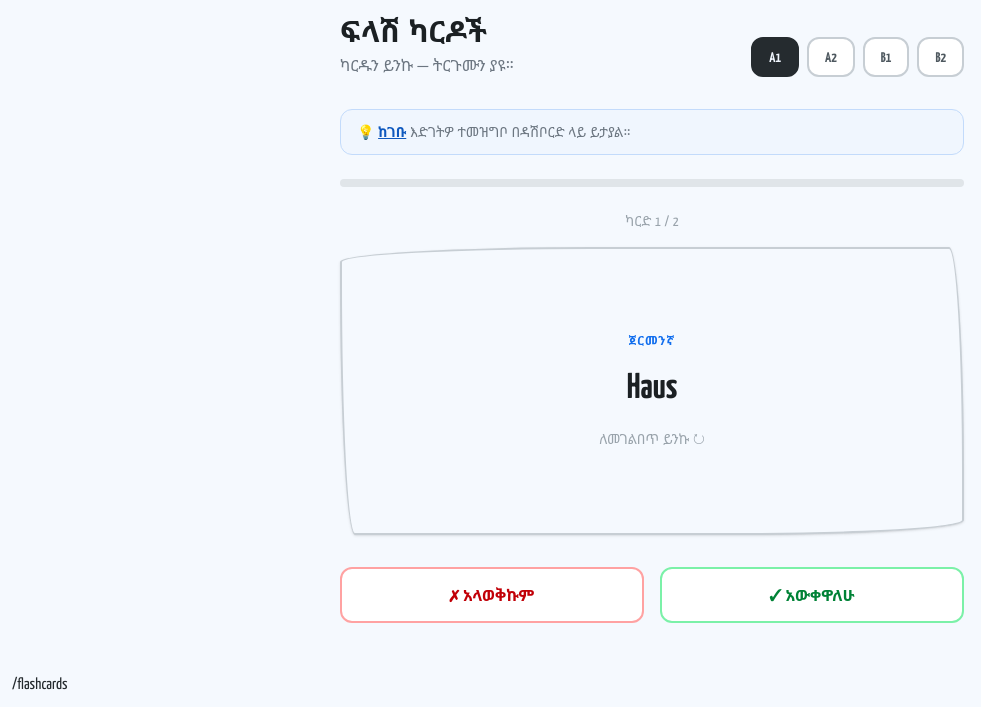
Flashcards › loads the chosen level and says when it has no words
The image size is (981, 707).
Check: the text "ካርድ 1 / 2" is shown, box [625,211,679,230]
Click the button "B2" at (941, 57), box [917,37,964,77]
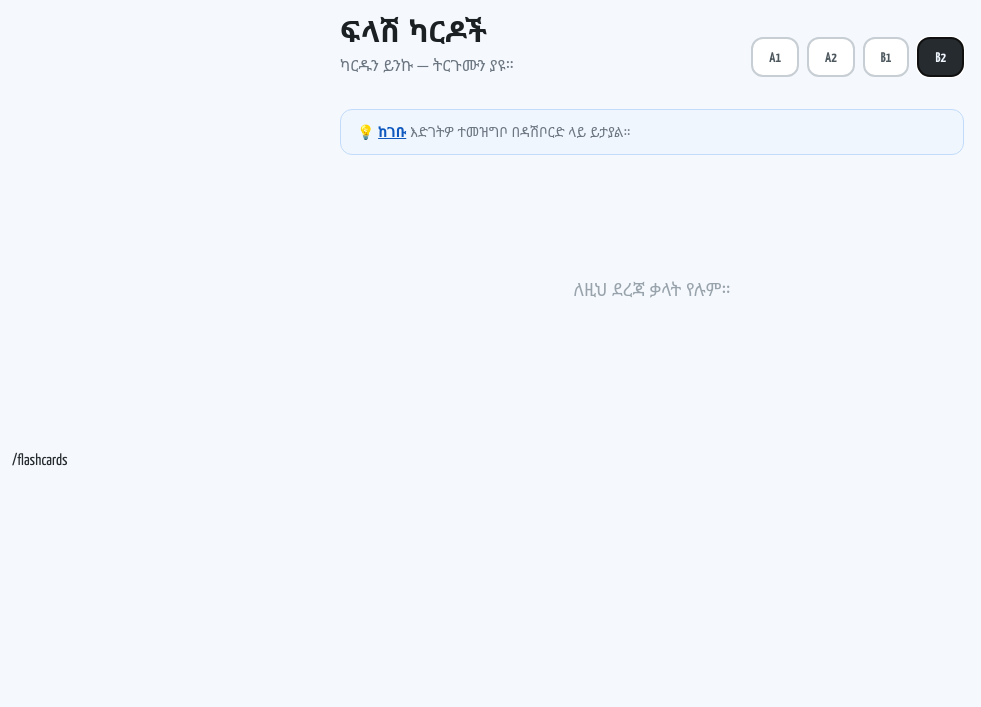
Check: the text "ለዚህ ደረጃ ቃላት የሉም።" is shown, box [573,277,730,301]
